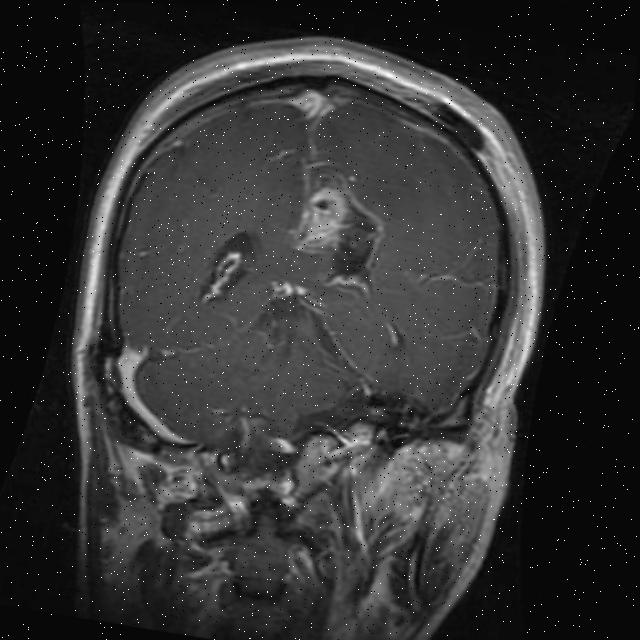Glioma: (279, 158, 399, 299), (245, 274, 356, 361), (199, 246, 247, 308)
